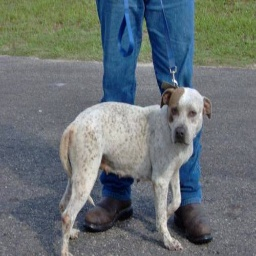dog: (57, 84, 212, 256)
